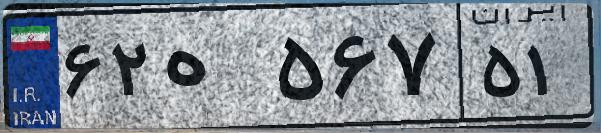1: (525, 38, 570, 115)
2: (110, 28, 158, 98)
5: (270, 28, 330, 110), (475, 38, 525, 113)
6: (330, 28, 385, 110), (57, 26, 110, 100)
7: (385, 28, 445, 110)
ه: (158, 20, 270, 120)
